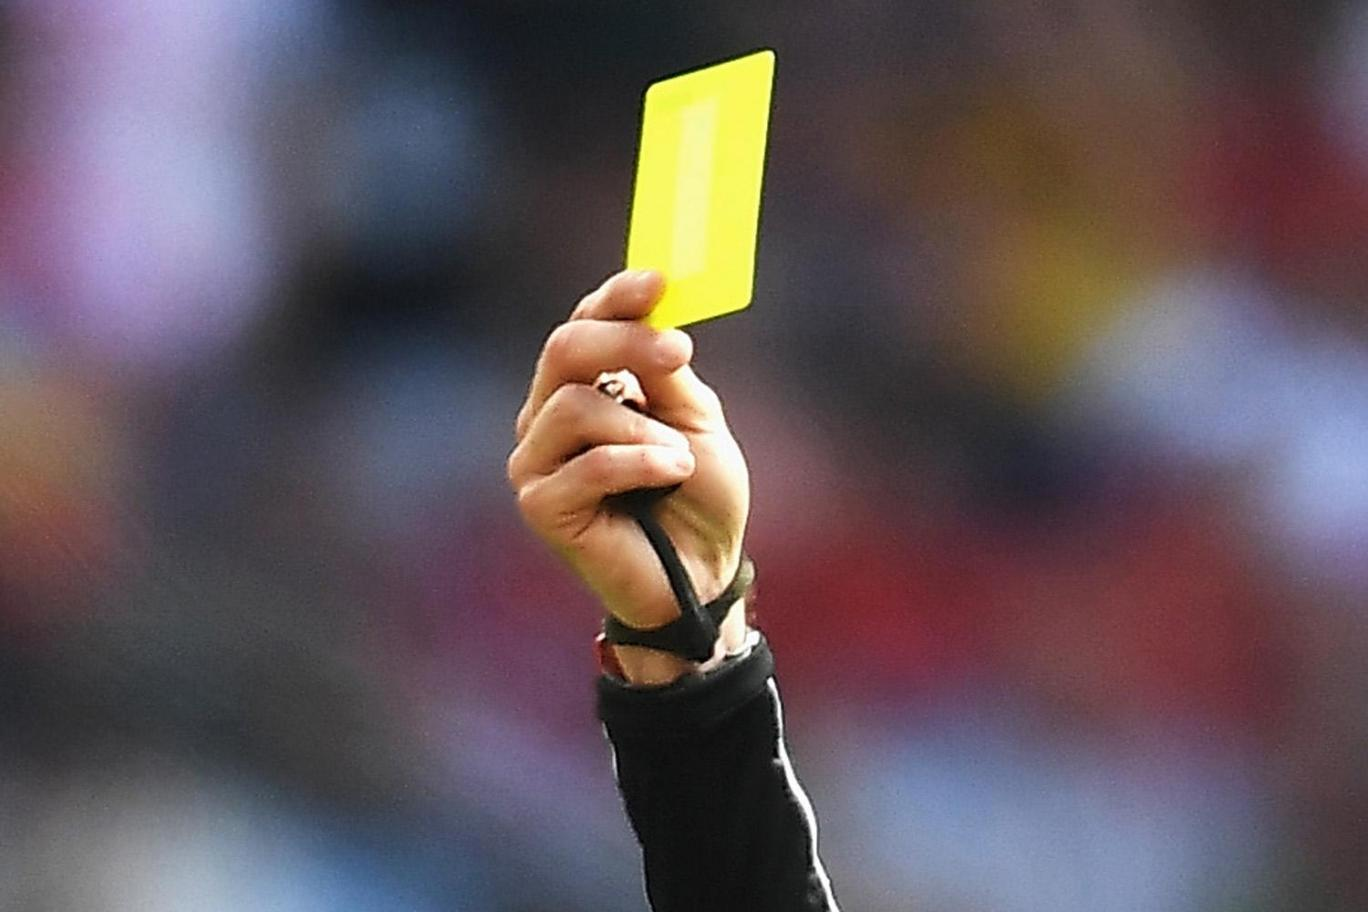yellow_card: (451, 60, 865, 618)
